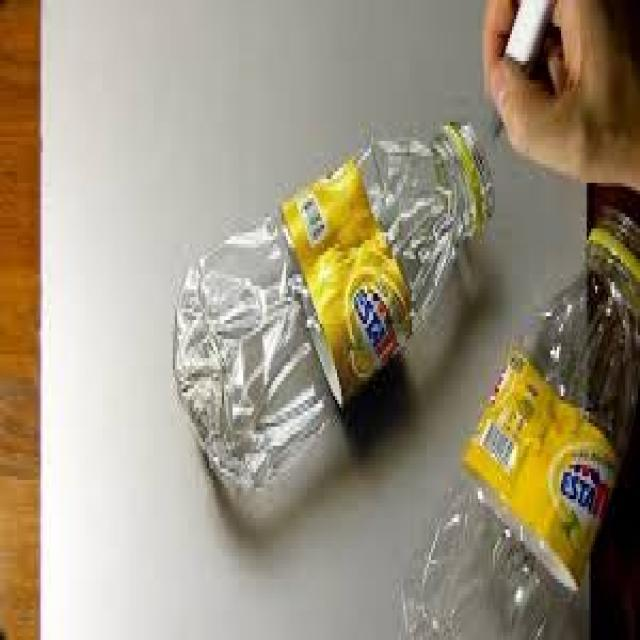bottle: (157, 103, 516, 520), (393, 183, 640, 640)
label: (472, 330, 617, 570), (288, 162, 412, 408)
